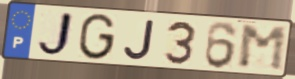3: (161, 19, 197, 66)
6: (203, 20, 239, 71)
G: (76, 12, 118, 62)
J: (35, 10, 76, 59), (122, 18, 157, 62)
M: (237, 24, 288, 73)
